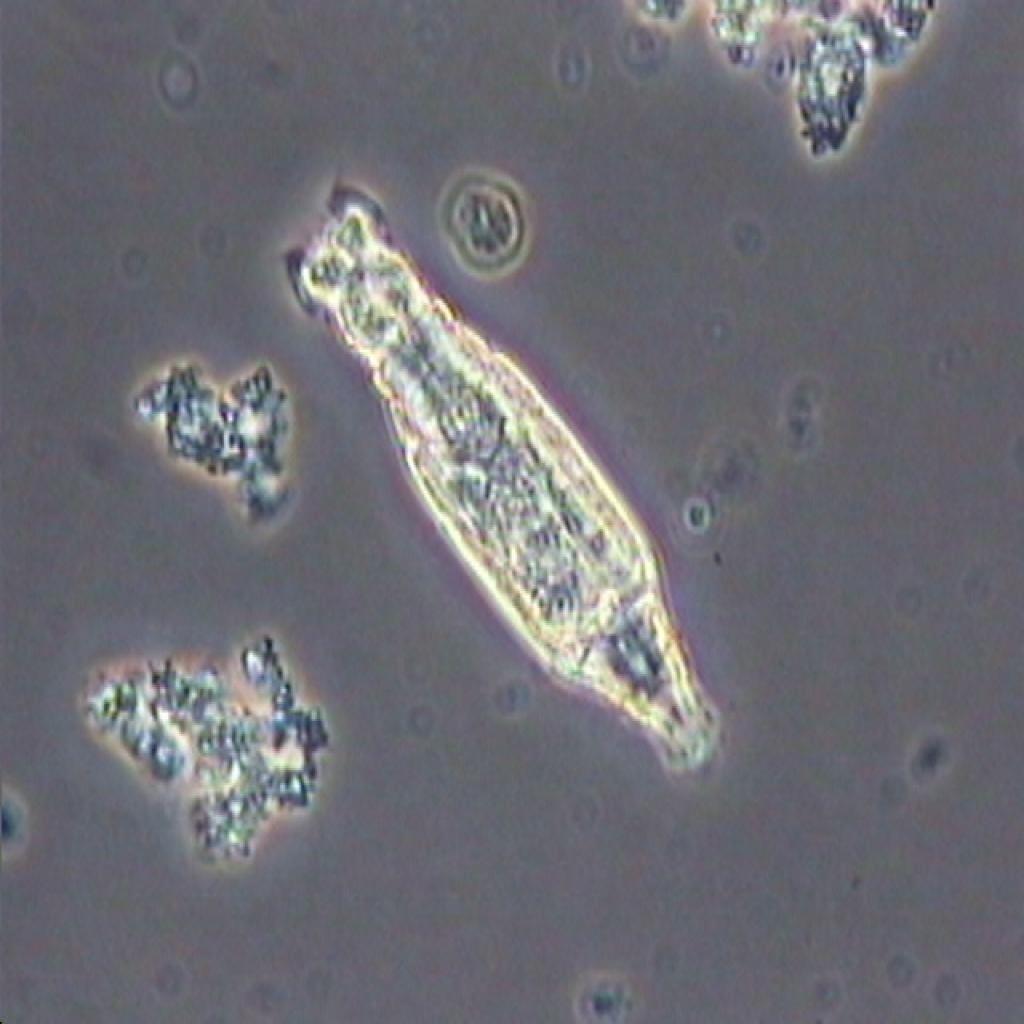Rotatoria: (280, 172, 782, 810)
